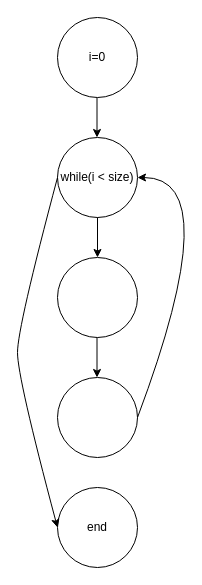
This 202x585 diagram has some shape labels left out. Here are the shapes that lost their labels. From the top down, the centre of each, then its label:
At pixel 97 297: "a[i] += b[i]".
At pixel 97 417: "i++".
